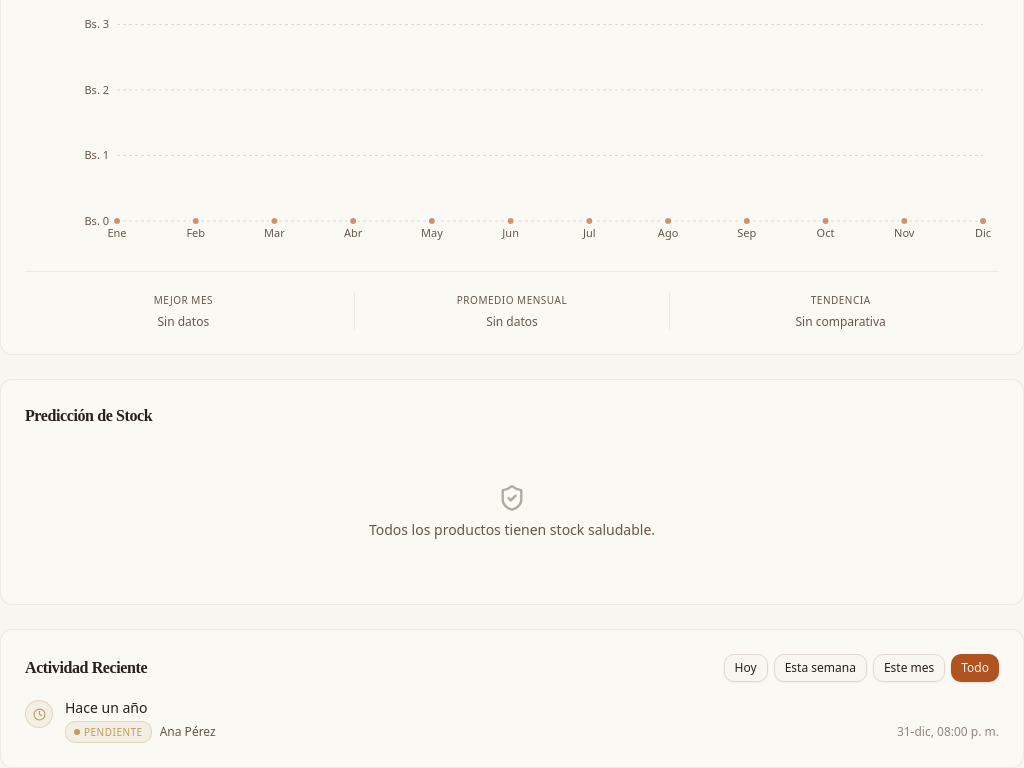
Test case: DashboardView — filtro de actividad reciente › distingue "sin actividad" de "sin actividad en el rango seleccionado"
(page scrolled)
expect the text "Hace un año" is shown: met, box top-left (65, 698), bottom-right (147, 717)
Click the button "Hoy". click: point(746, 668)
box: top-left (724, 654), bottom-right (768, 682)
(page scrolled)
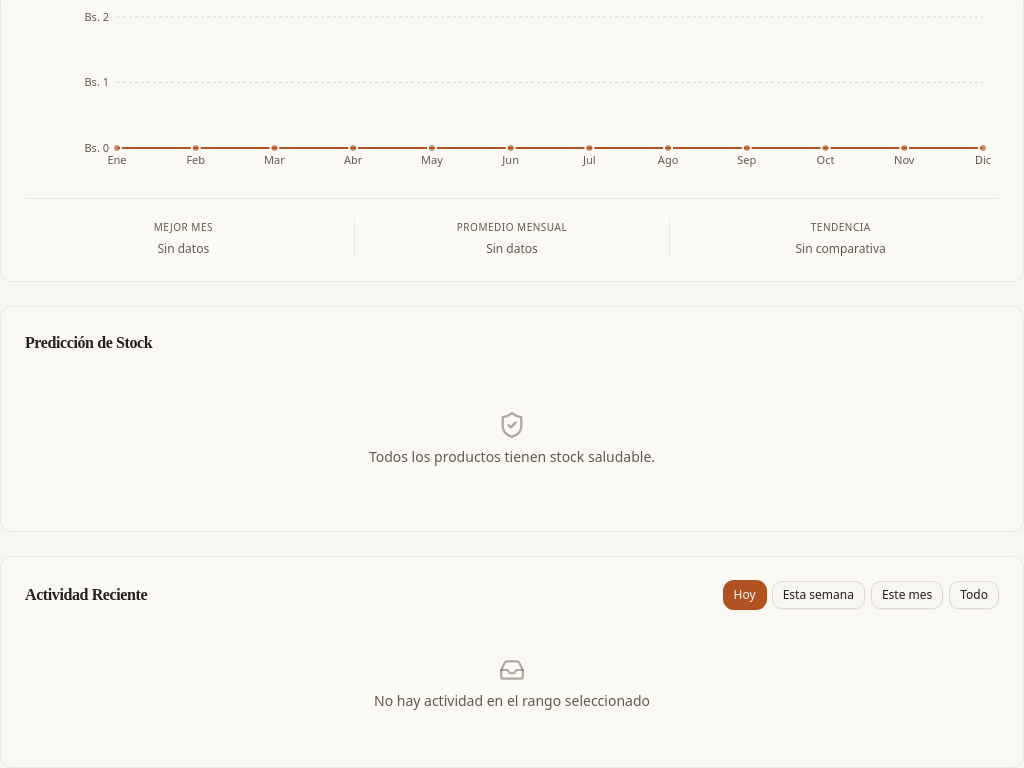
expect the text "No hay actividad en el rango seleccionado" is shown: met, box top-left (374, 691), bottom-right (650, 711)
